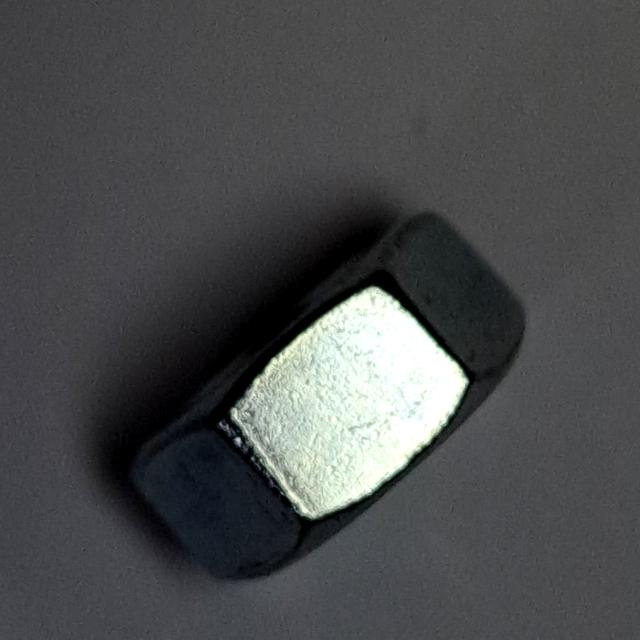Side_Excellent: (111, 201, 541, 601)
